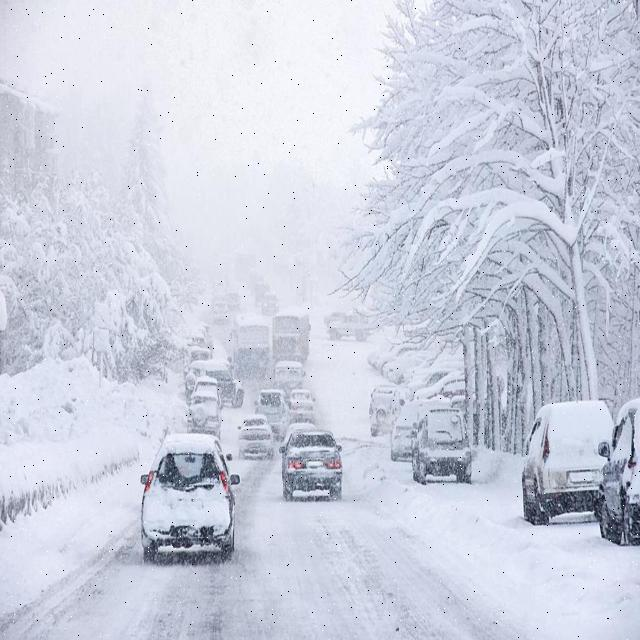car: (140, 434, 238, 564), (521, 398, 615, 526), (598, 399, 639, 547), (411, 405, 471, 485), (279, 426, 343, 500), (391, 400, 433, 460), (185, 362, 243, 402), (369, 386, 408, 436), (188, 381, 222, 436), (237, 415, 274, 461), (252, 390, 286, 436), (326, 315, 370, 345), (417, 372, 465, 399), (408, 367, 448, 394), (273, 364, 305, 394), (287, 391, 315, 424), (390, 353, 418, 379), (377, 348, 401, 368), (212, 299, 231, 323), (260, 296, 278, 314), (227, 293, 241, 311)
truck: (229, 310, 269, 380), (273, 312, 311, 364)
